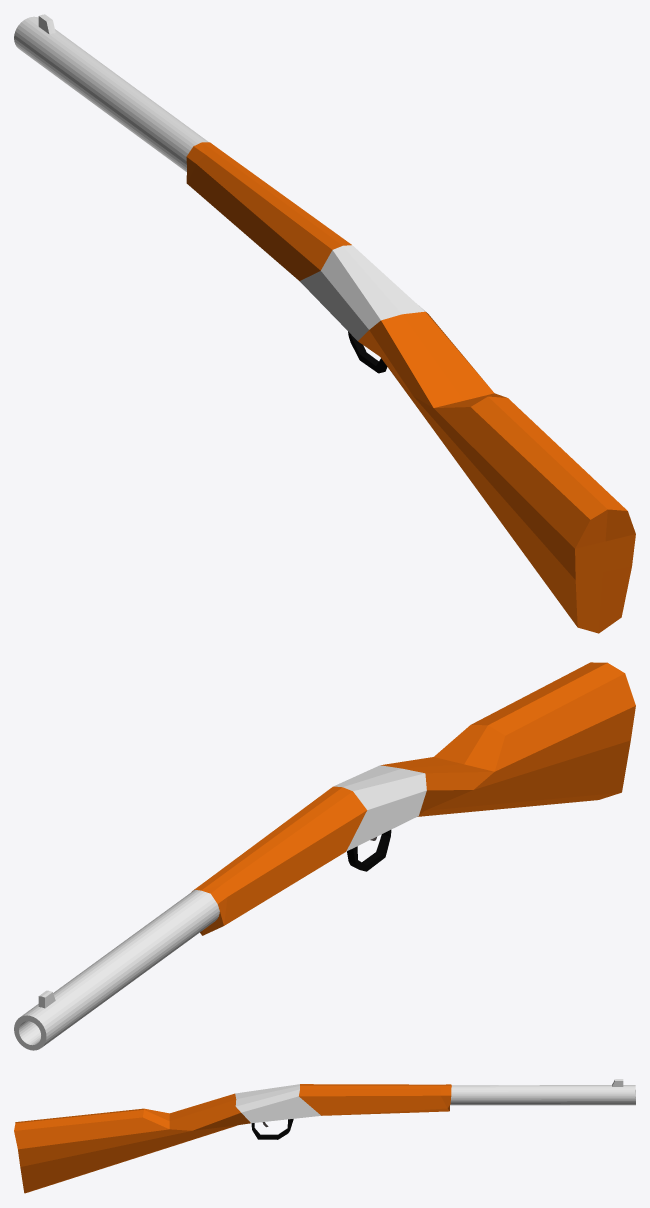
File: svg.glb
3 views of the same model, one above another, from view 1: azimuth 30°, elevation 25°; view 2: azimuth 150°, elevation 25°; view 3: azimuth 270°, elevation 25° (orthographic). The views are drawn at different scales.
Visible parts, largest first — view 1: Cylinder; view 2: Cylinder; view 3: Cylinder.
Part boxes in pixels (x1,y1,x2,y2): Cylinder: (14,14,635,633); Cylinder: (14,662,635,1050); Cylinder: (14,1079,635,1193).
Bounding box in the file's own units: 0.6774 × 2.24 × 11.14.
